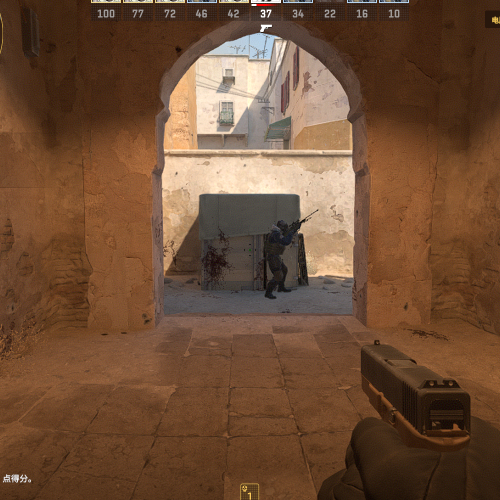ct_body: (264, 219, 292, 300)
ct_head: (276, 220, 288, 232)
